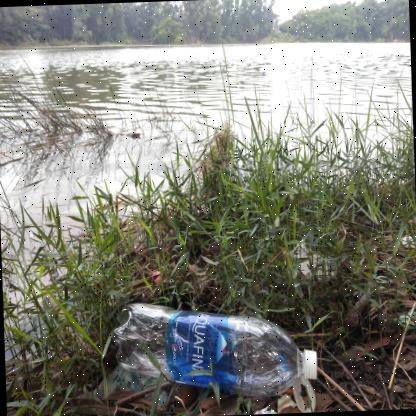Clear plastic bottle: (113, 303, 317, 397)
Other plastic bottle: (293, 375, 316, 413)
Plastic film: (74, 364, 168, 409)
Unlabeled litter: (292, 239, 339, 283), (376, 276, 392, 289)
